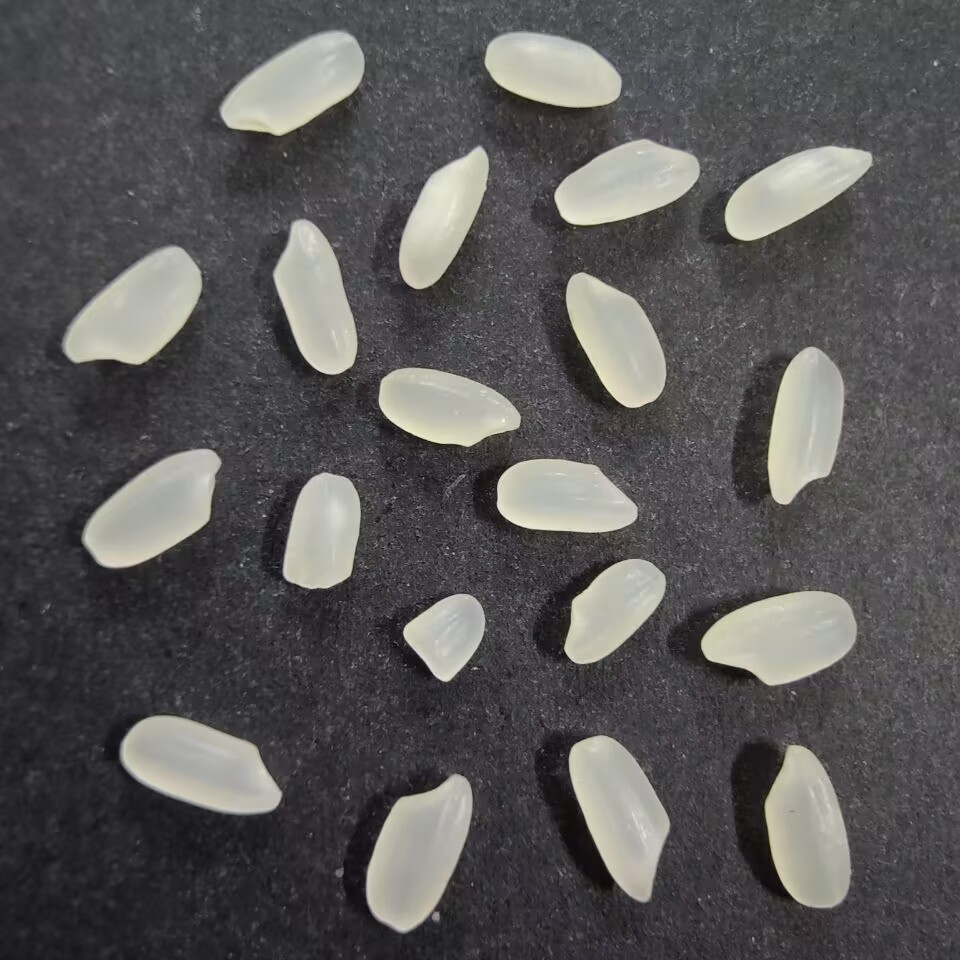broken: (278, 468, 363, 597), (399, 589, 487, 686)
rice: (566, 733, 675, 905), (61, 244, 204, 373), (80, 445, 223, 574), (363, 771, 473, 934), (115, 712, 284, 816), (759, 741, 857, 912), (216, 28, 366, 139), (723, 141, 875, 245), (699, 589, 861, 686), (564, 267, 670, 411), (269, 216, 359, 375), (396, 144, 491, 291), (550, 137, 702, 228), (767, 344, 848, 506), (373, 365, 525, 449), (479, 29, 628, 111), (558, 553, 667, 665), (493, 454, 640, 537)
